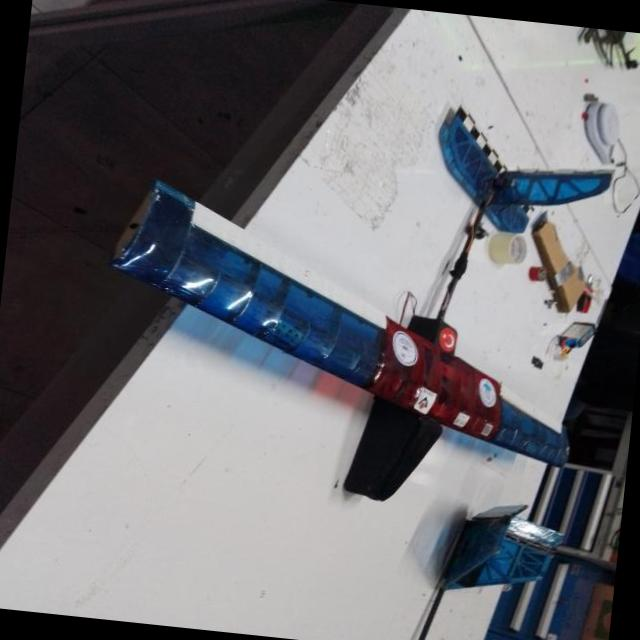UAV: (108, 13, 640, 558)
